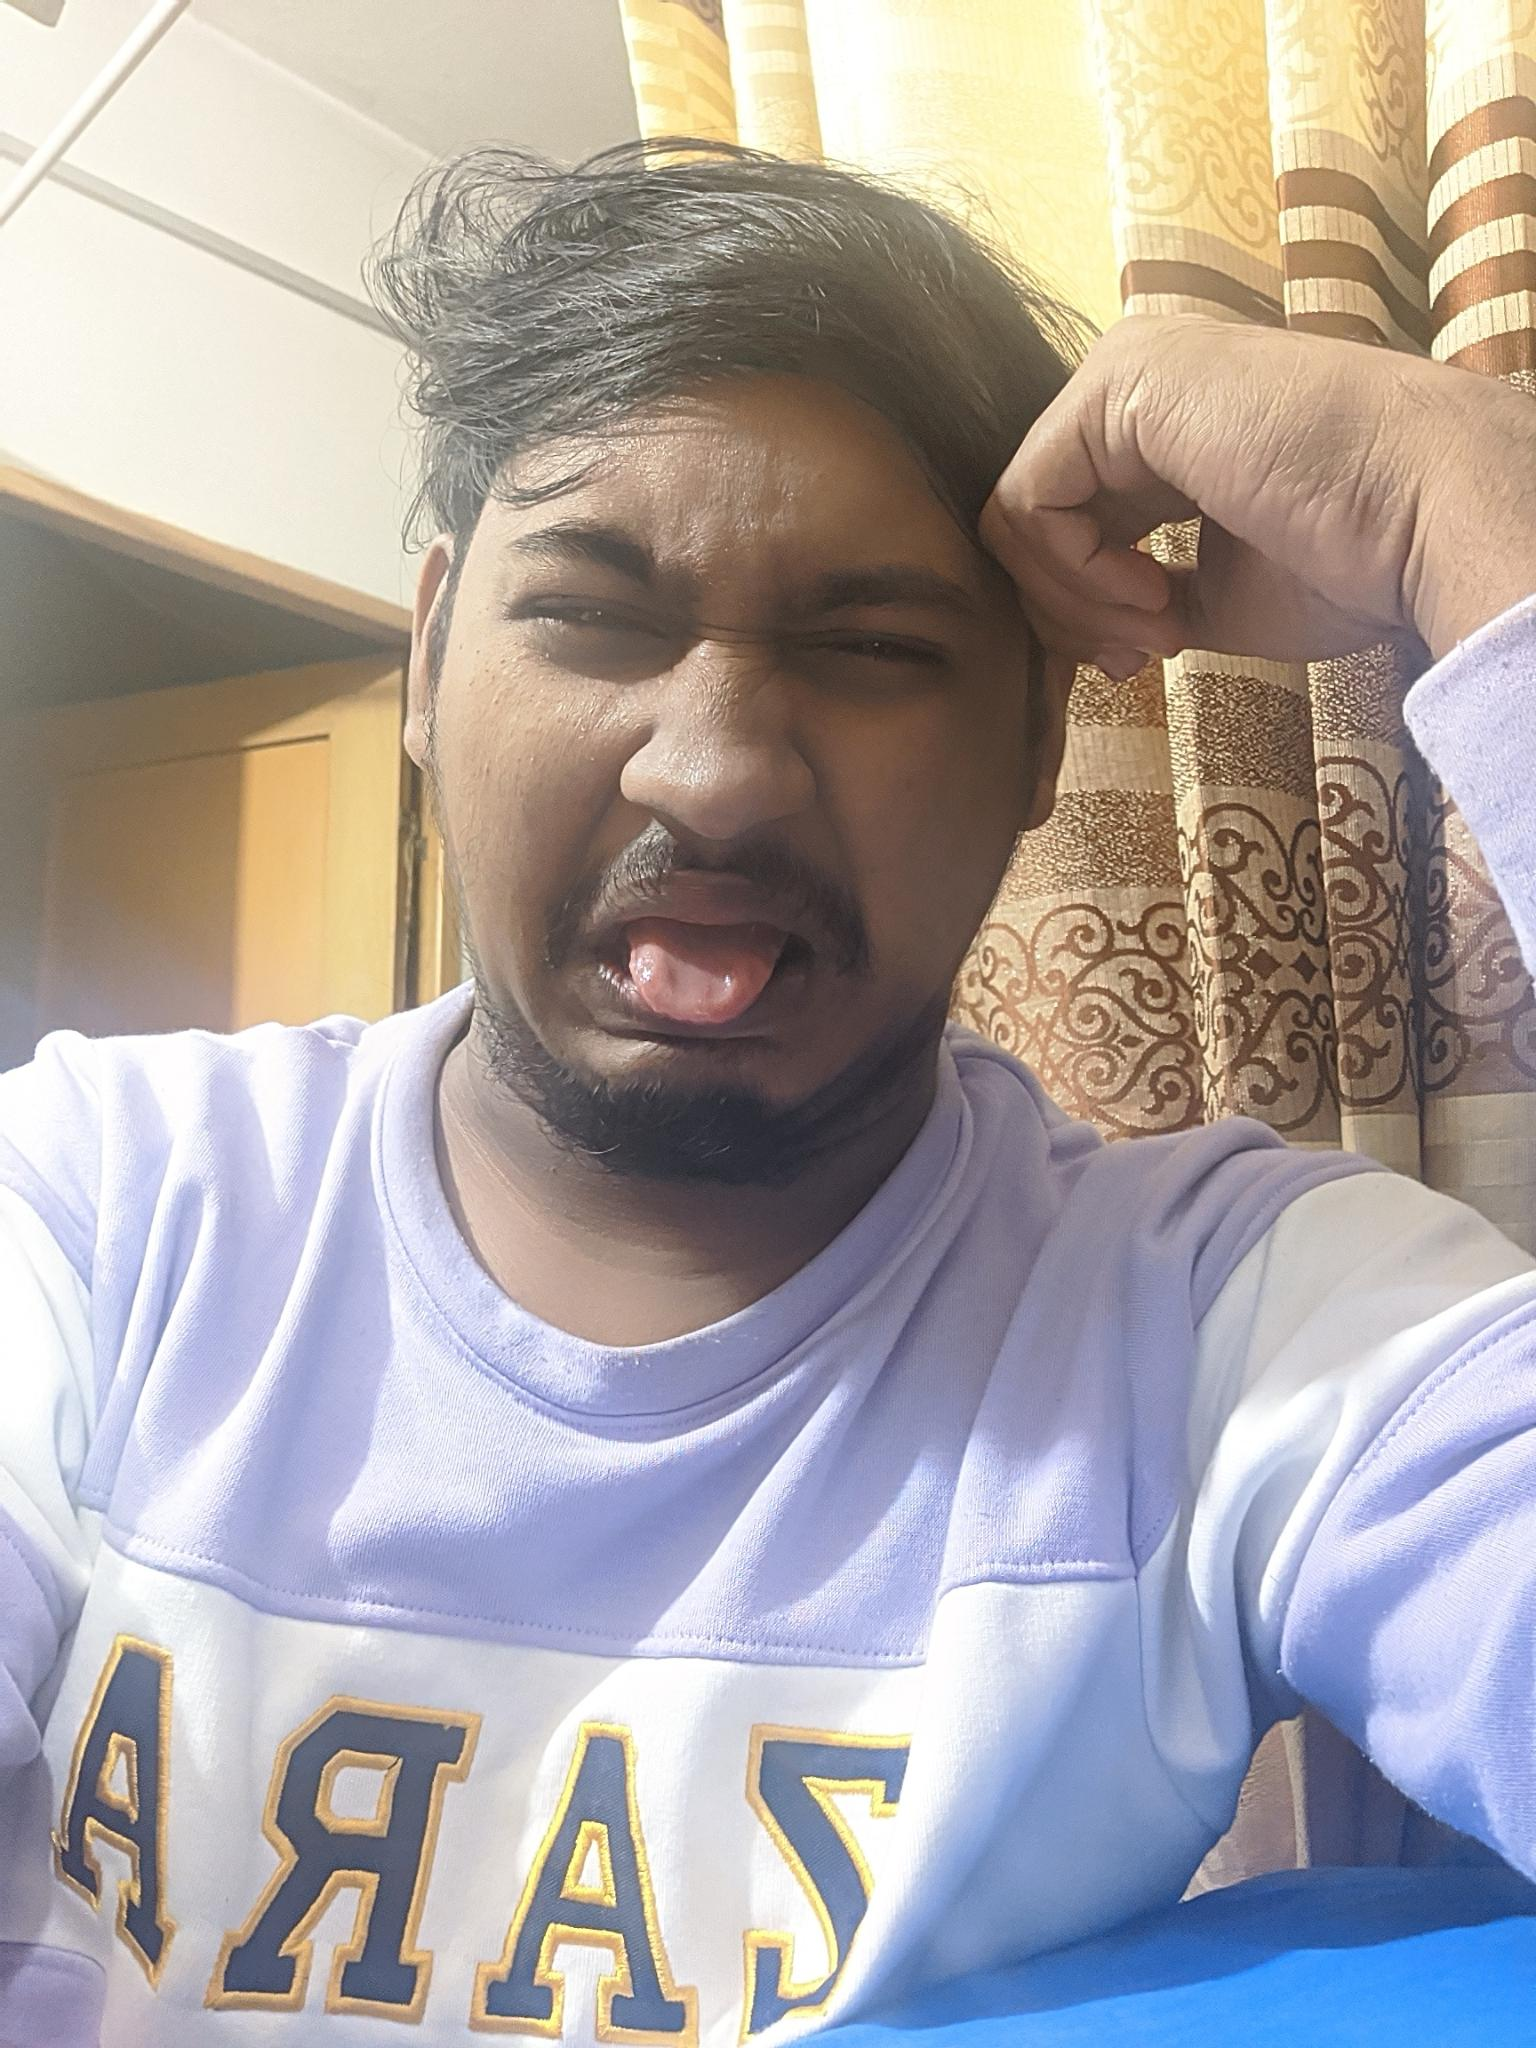Disgust: (439, 423, 1016, 1164)
